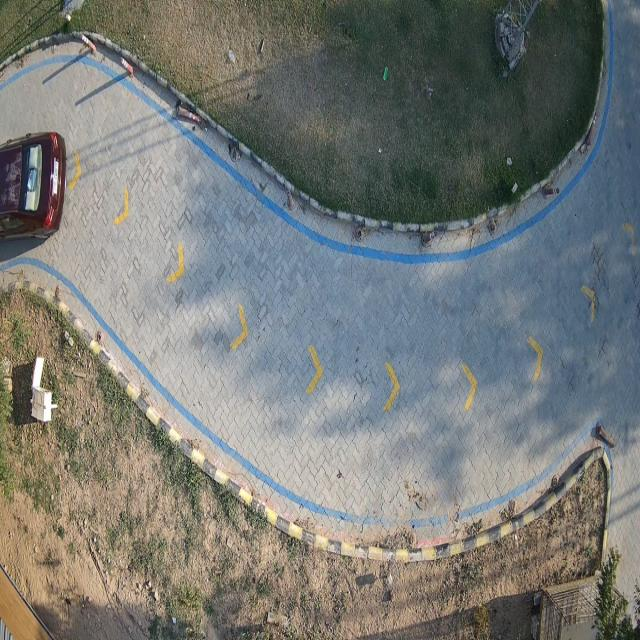car: (1, 131, 66, 240)
